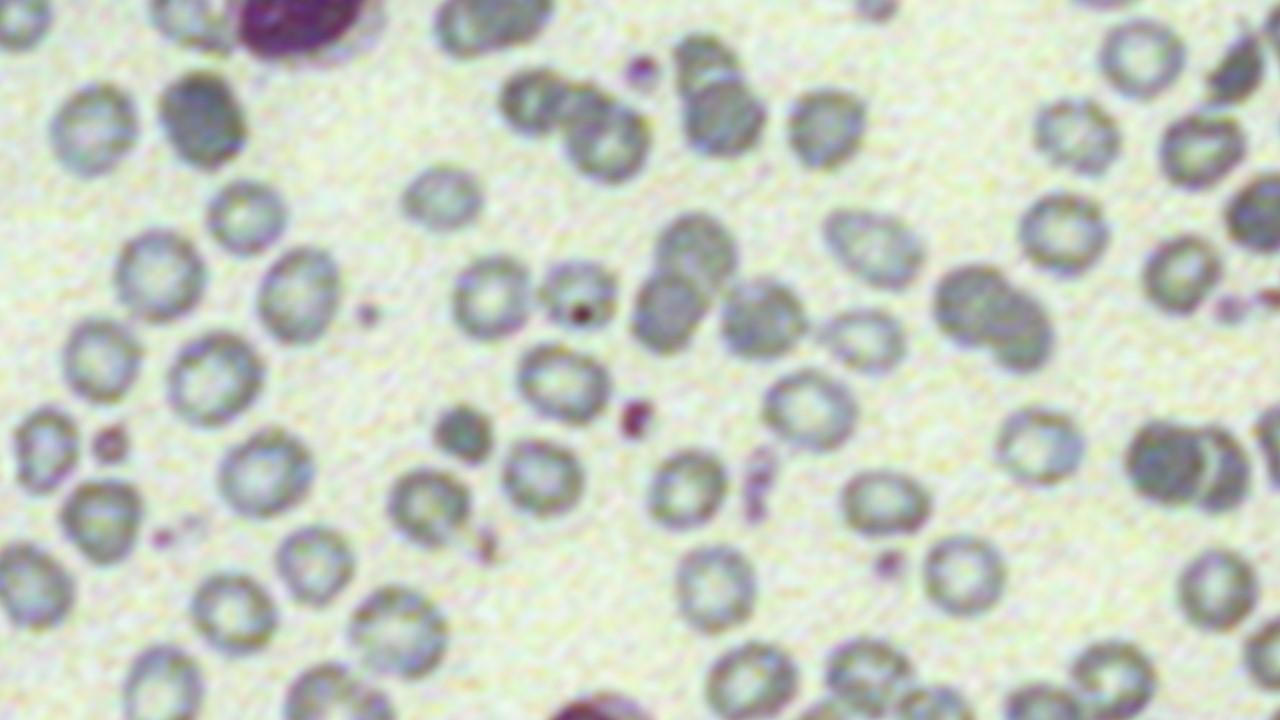RBC: (338, 578, 455, 684), (158, 325, 269, 435), (106, 219, 211, 329), (249, 239, 348, 351), (1009, 185, 1117, 287), (506, 338, 618, 430), (183, 564, 284, 664), (54, 309, 149, 411), (444, 245, 536, 350), (494, 432, 592, 526), (1120, 409, 1206, 514), (534, 246, 624, 341), (2, 531, 82, 637), (1222, 164, 1280, 262), (1249, 382, 1279, 516)
